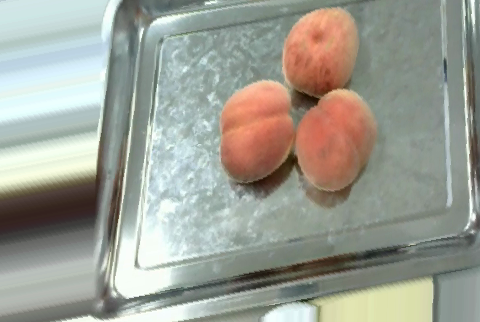Peach: (295, 87, 376, 191), (219, 79, 295, 183), (282, 5, 359, 96)
